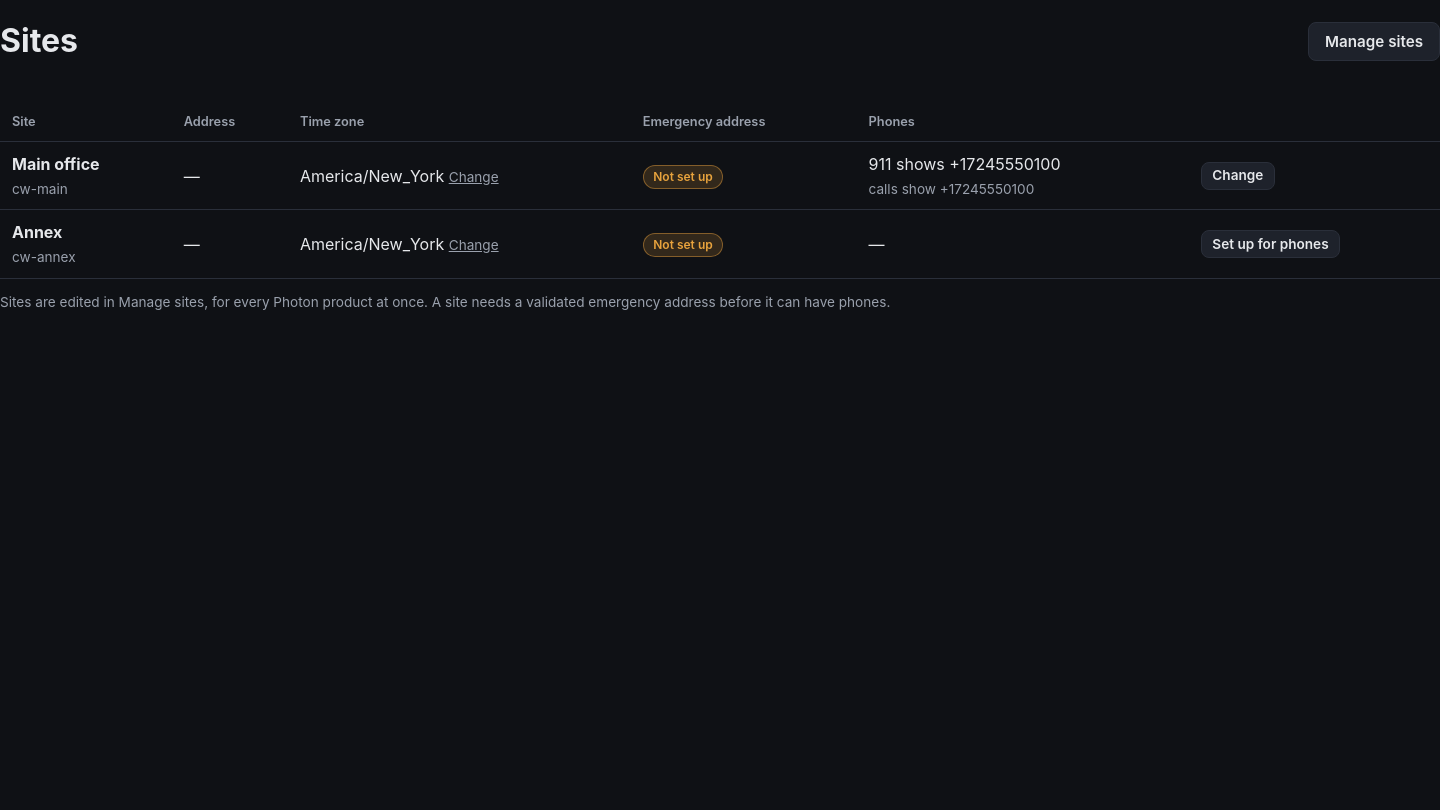
Test: sites set up for phones › an address that cannot be added says why
This screenshot has width=1440, height=810.
Click the button with aria-label "Set up Main office for phones". click: (1238, 176)
box: [1201, 162, 1275, 190]
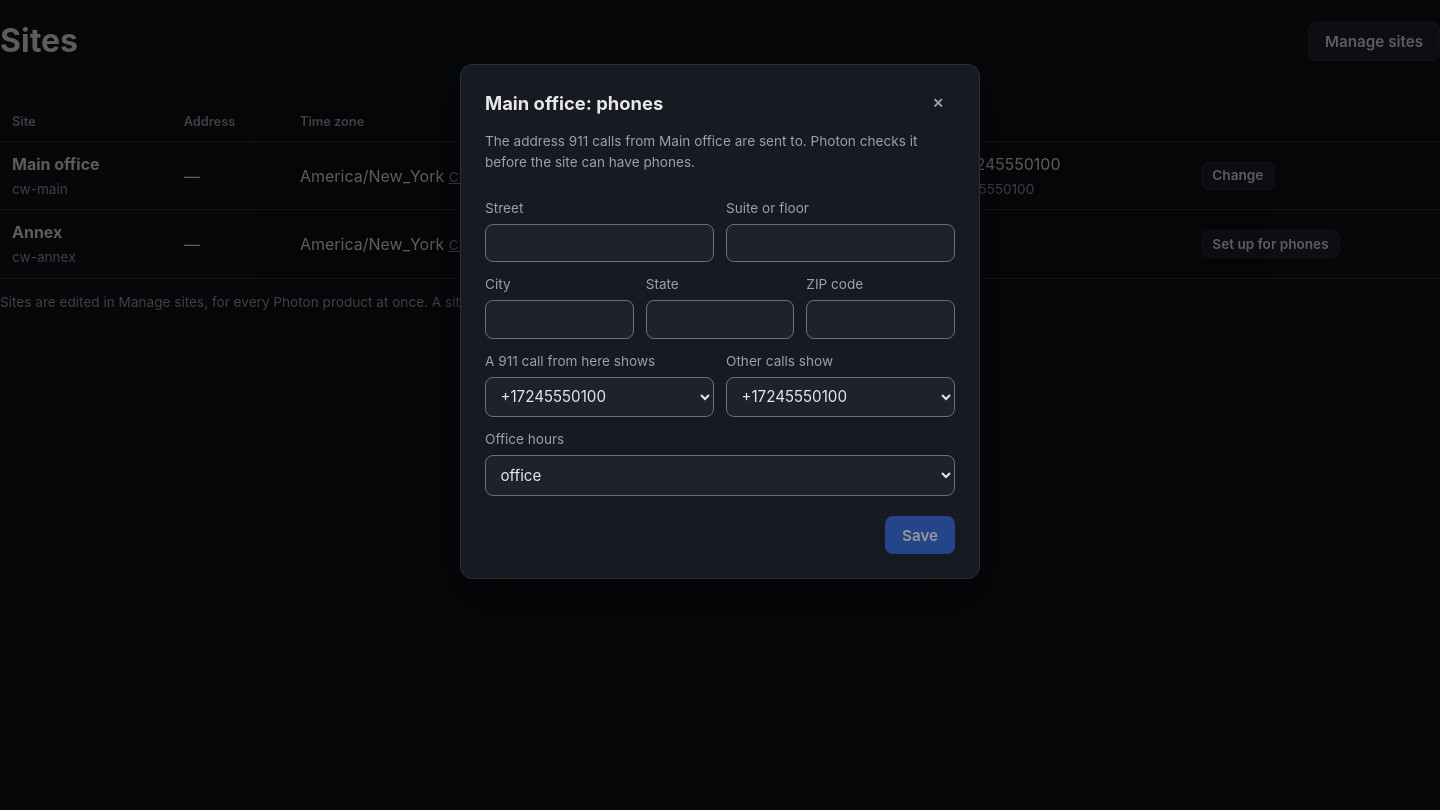
Type "1 A St" into the field labelled "Street". click: (600, 243)
box: [485, 224, 714, 262]
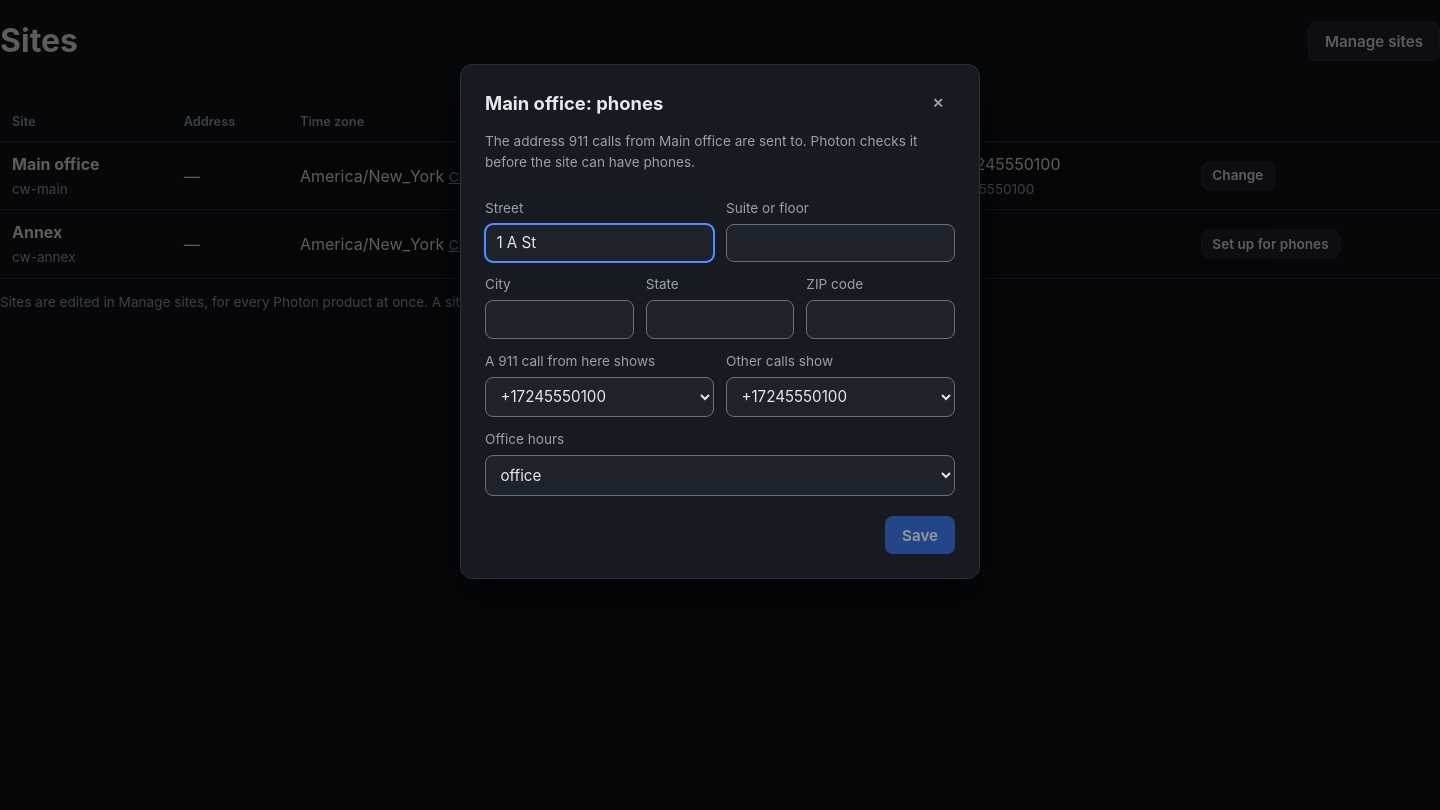
Type "X" into the field labelled "City". click: (559, 319)
box: [485, 300, 634, 339]
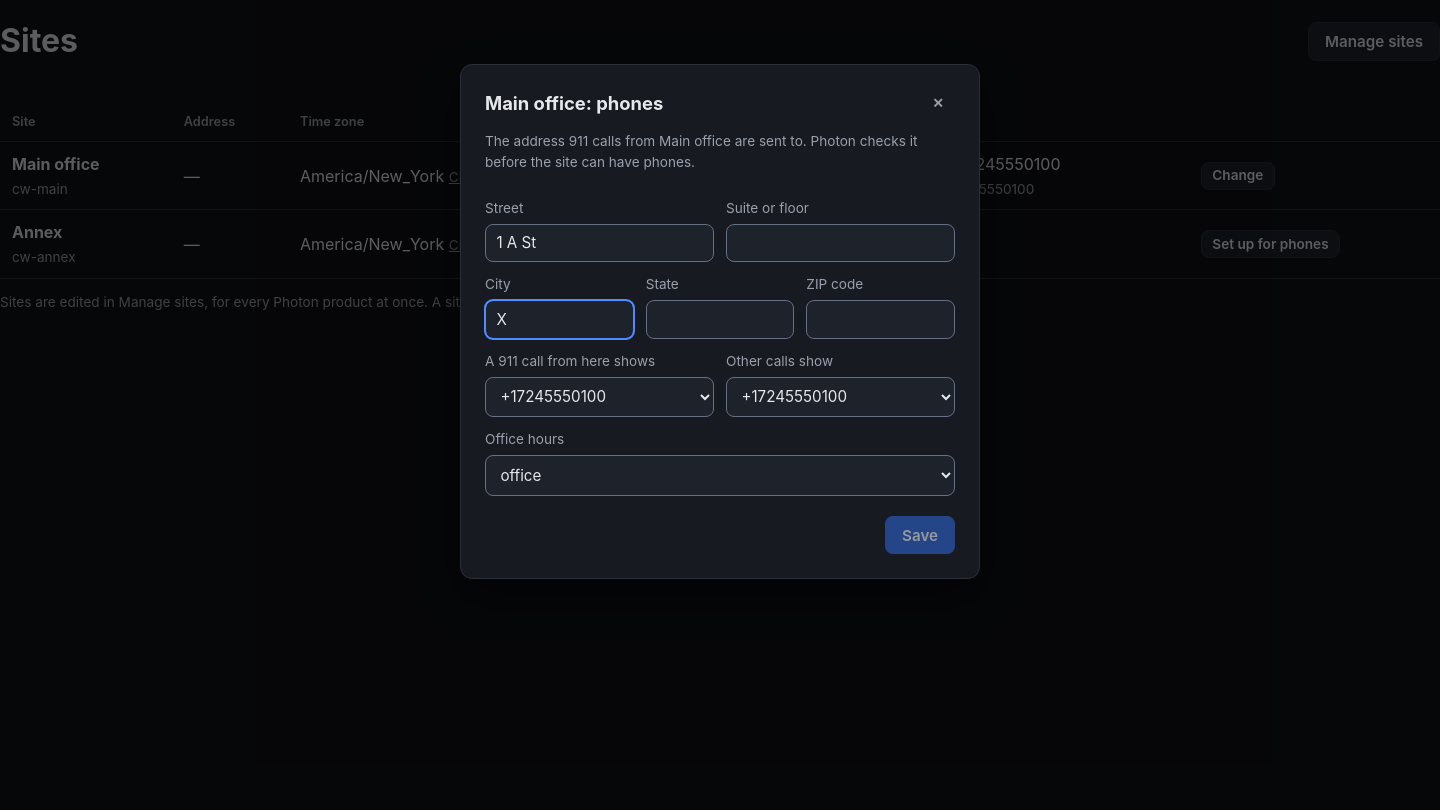
Type "PA" into the field labelled "State". click: (720, 319)
box: [646, 300, 794, 339]
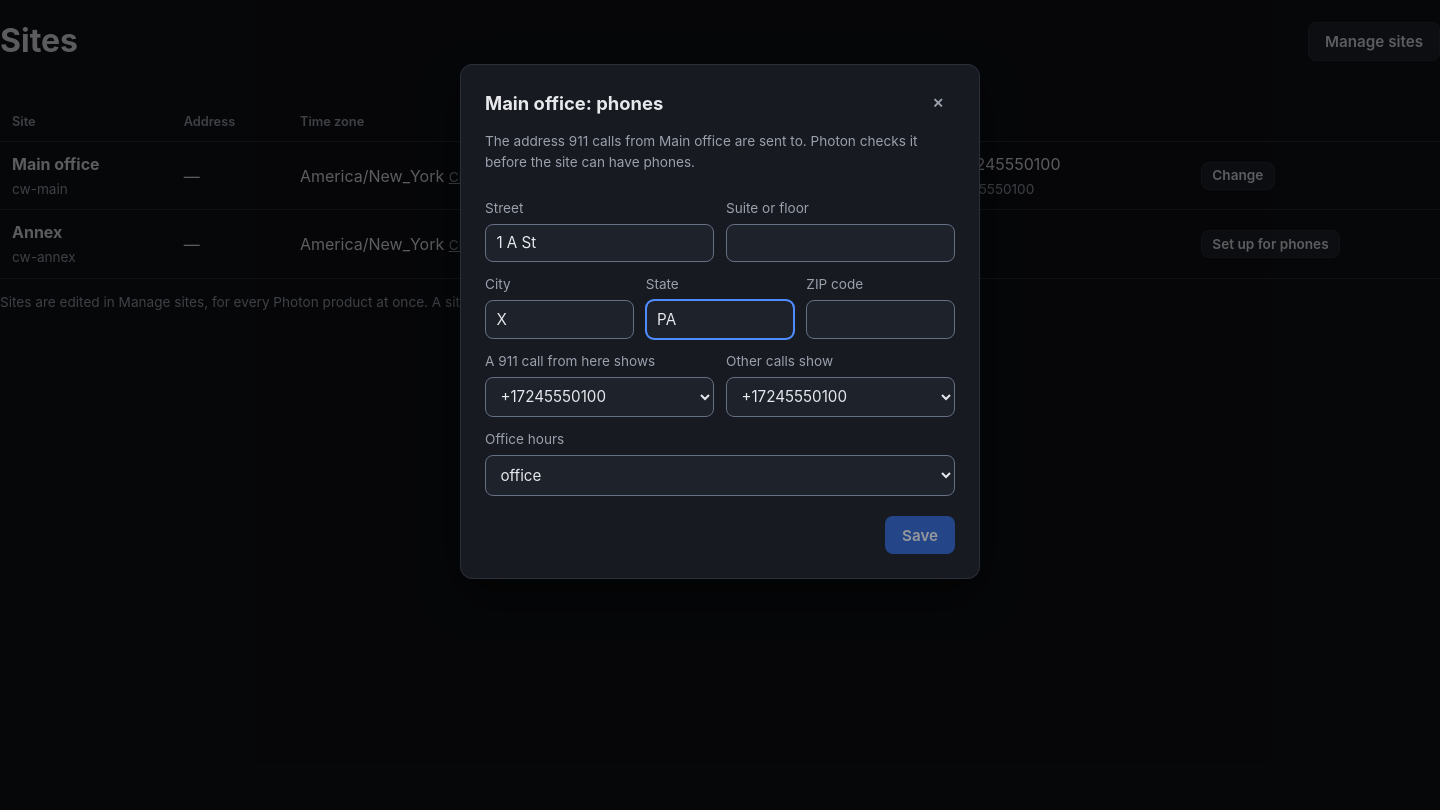
Type "15222" into the field labelled "ZIP code". click: (881, 319)
box: [806, 300, 955, 339]
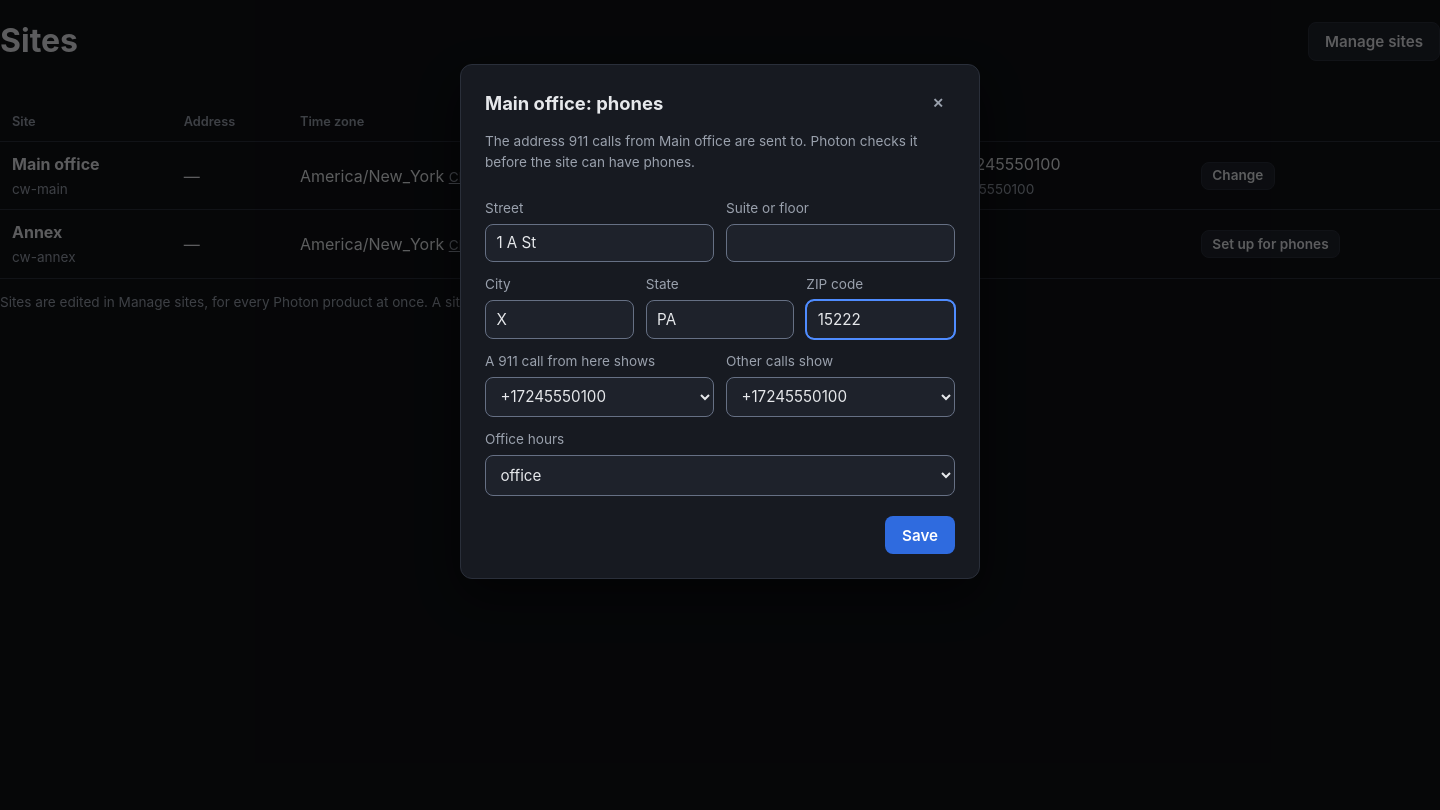
Click the button "Save". click: (920, 535)
box: [885, 516, 955, 554]
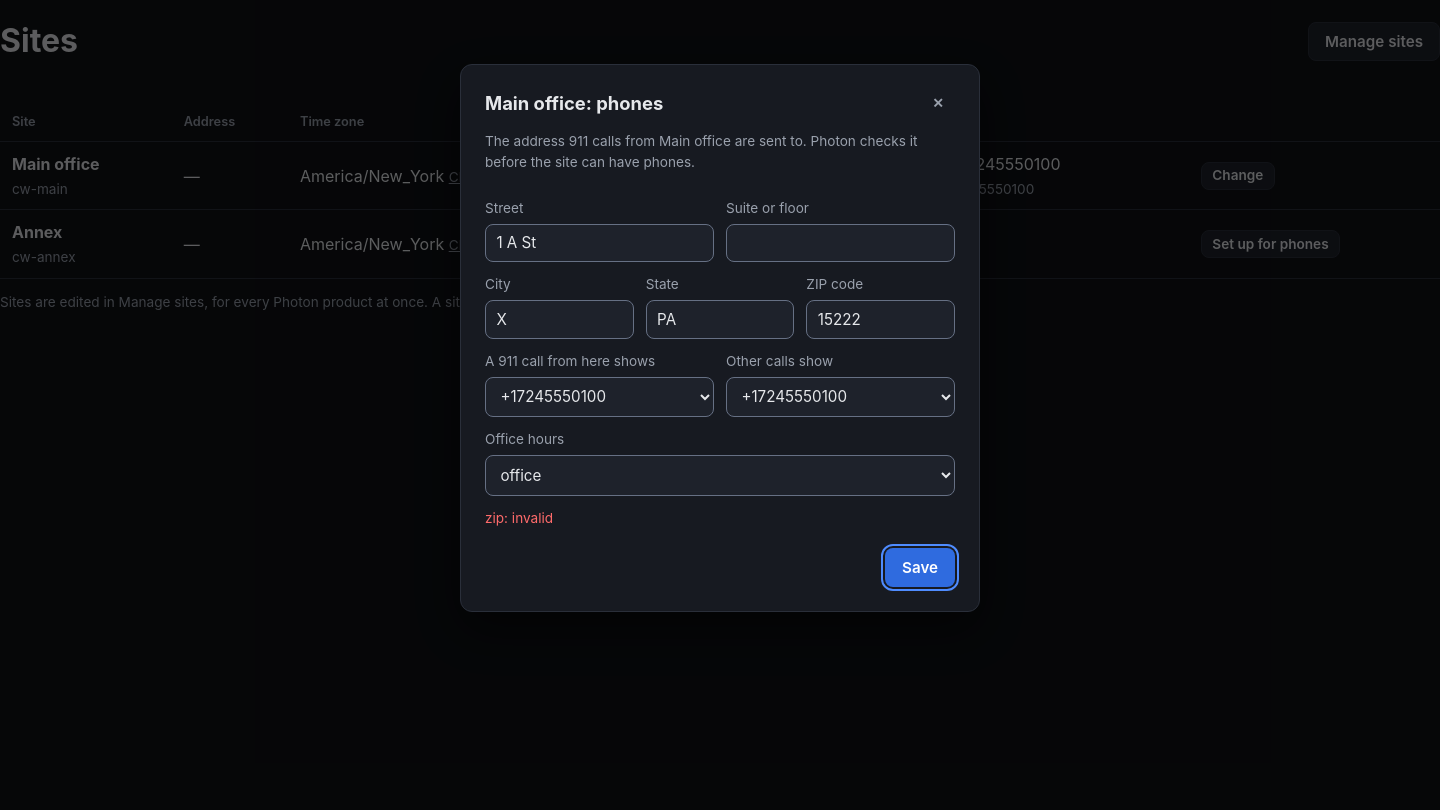
Check: the message reads "zip: invalid", box [485, 510, 553, 526]
